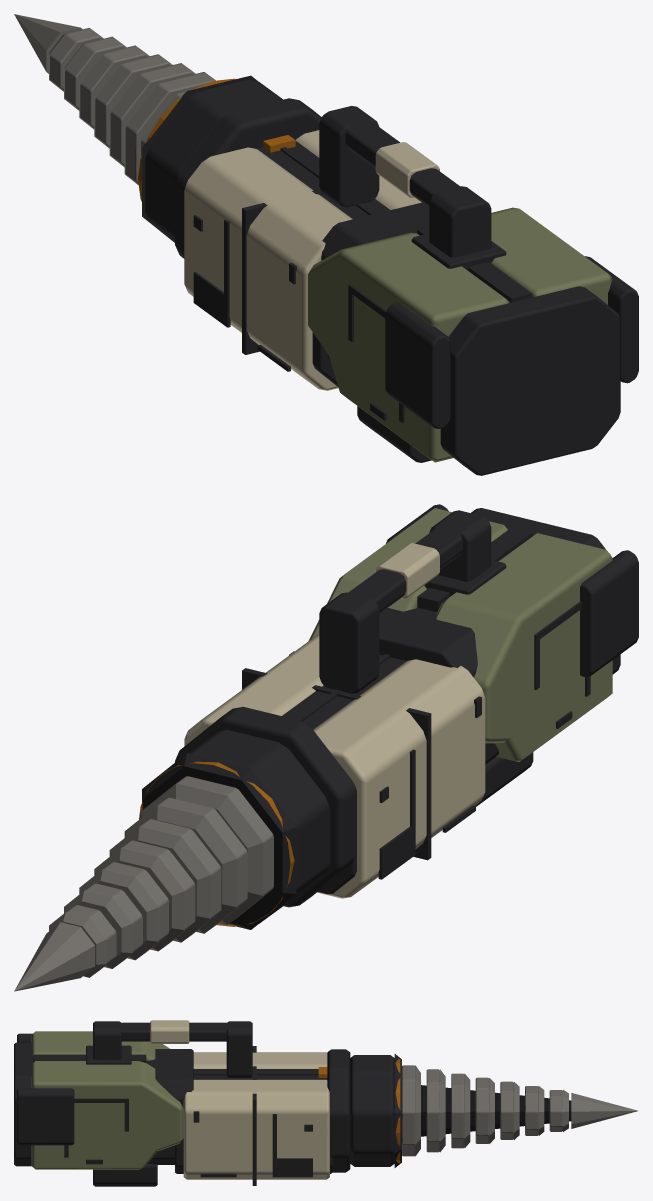
Rendered from pilebunker_2.glb.
3 views of the same model, one above another, from view 1: azimuth 30°, elevation 25°; view 2: azimuth 150°, elevation 25°; view 3: azimuth 270°, elevation 25° (orthographic). The views are drawn at different scales.
Parts seen in each view (by area): view 1: RearCap, BodyShellL, GripShellL, Collar, RearPadL, GripShellR, CollarBack, HandlePostFront, HandlePostBack, RearCore, HandleBar, DrillRing1 (+16 smaller); view 2: BodyShellL, GripShellL, Collar, CollarBack, RearPadL, HandlePostFront, RearCore, BodyShellR, CollarLip, DrillTip, DrillRingFront0, DrillRingFront1 (+25 smaller); view 3: BodyShellR, GripShellR, Collar, RearPadR, CollarBack, RearCore, GripShellL, BodyShellL, DrillCore, HandlePostFront, RearCap, HandleBar (+26 smaller).
Part boxes in pixels (left/top/right/bottom): RearCap: left=440, top=286, right=620, bottom=475; BodyShellL: left=184, top=147, right=352, bottom=390; GripShellL: left=308, top=232, right=510, bottom=462; Collar: left=145, top=79, right=282, bottom=242; RearPadL: left=385, top=302, right=450, bottom=428; GripShellR: left=491, top=207, right=612, bottom=304; CollarBack: left=175, top=98, right=321, bottom=258; HandlePostFront: left=319, top=106, right=379, bottom=207; HandlePostBack: left=429, top=186, right=491, bottom=257; RearCore: left=321, top=202, right=429, bottom=362; HandleBar: left=345, top=119, right=459, bottom=207; DrillRing1: left=125, top=73, right=215, bottom=184; BodyShellL: left=313, top=659, right=485, bottom=898; GripShellL: left=436, top=533, right=612, bottom=761; Collar: left=188, top=729, right=329, bottom=923; CollarBack: left=175, top=706, right=356, bottom=907; RearPadL: left=580, top=550, right=638, bottom=677; HandlePostFront: left=319, top=592, right=379, bottom=693; RearCore: left=379, top=607, right=498, bottom=764; BodyShellR: left=184, top=634, right=323, bottom=746; CollarLip: left=142, top=753, right=296, bottom=929; DrillTip: left=14, top=922, right=94, bottom=991; DrillRingFront0: left=140, top=783, right=263, bottom=924; DrillRingFront1: left=124, top=805, right=237, bottom=933; BodyShellR: left=183, top=1079, right=329, bottom=1179; GripShellR: left=31, top=1061, right=183, bottom=1169; Collar: left=350, top=1055, right=394, bottom=1166; RearPadR: left=17, top=1088, right=74, bottom=1145; CollarBack: left=327, top=1049, right=350, bottom=1172; RearCore: left=146, top=1049, right=193, bottom=1164; GripShellL: left=31, top=1031, right=169, bottom=1060; BodyShellL: left=193, top=1052, right=327, bottom=1068; DrillCore: left=421, top=1085, right=571, bottom=1136; HandlePostFront: left=226, top=1021, right=252, bottom=1077; RearCap: left=14, top=1042, right=33, bottom=1166; HandleBar: left=116, top=1022, right=230, bottom=1041.
Bounding box in the file's own units: 1 × 1.14 × 4.35.
